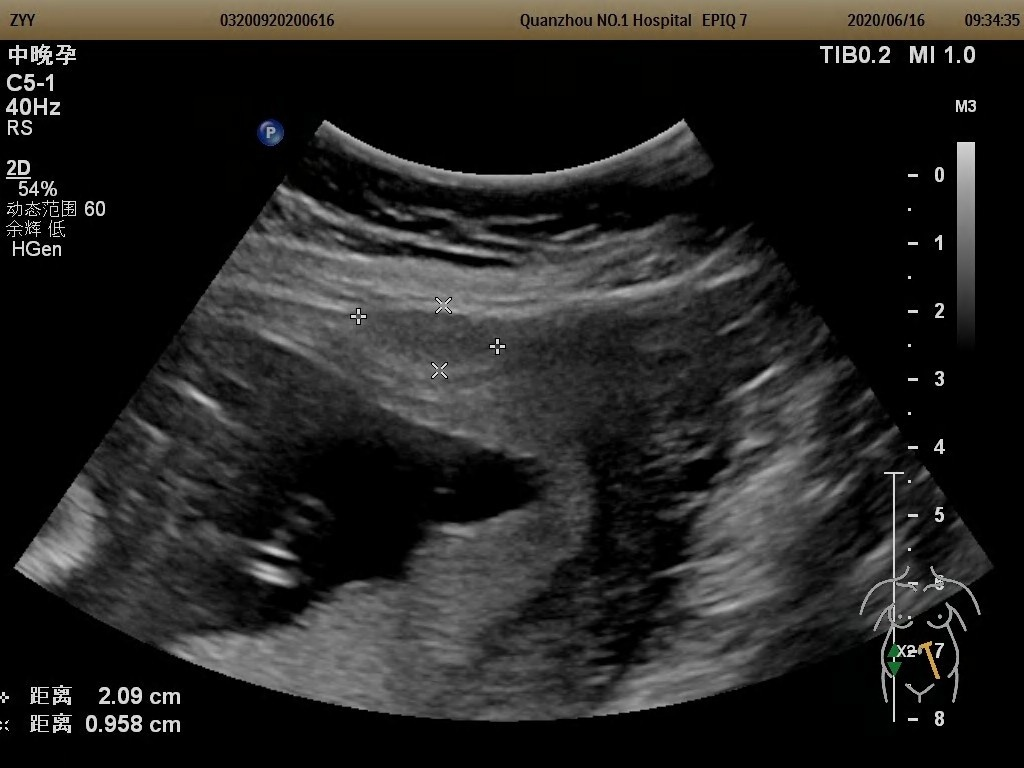肌瘤: (359, 310, 493, 364)
